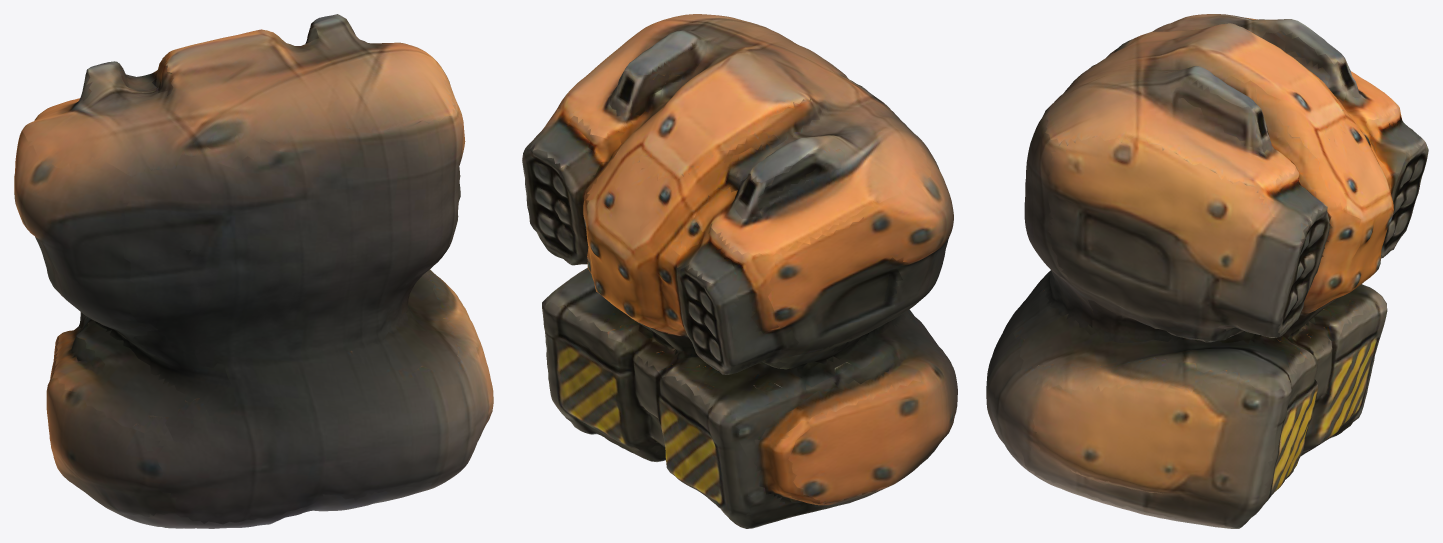
File: Back_7.glb
3 views of the same model, side by side, from view 1: azimuth 30°, elevation 25°; view 2: azimuth 150°, elevation 25°; view 3: azimuth 270°, elevation 25° (orthographic). The views are drawn at different scales.
Parts seen in each view (by area): view 1: world; view 2: world; view 3: world.
Part boxes in pixels (bbox=[...]): world: bbox=[14, 14, 493, 528]; world: bbox=[522, 14, 957, 528]; world: bbox=[986, 14, 1428, 528].
Bounding box in the file's own units: 0.8646 × 0.8876 × 0.8188.
Materials: 1 (1 with a texture image).
